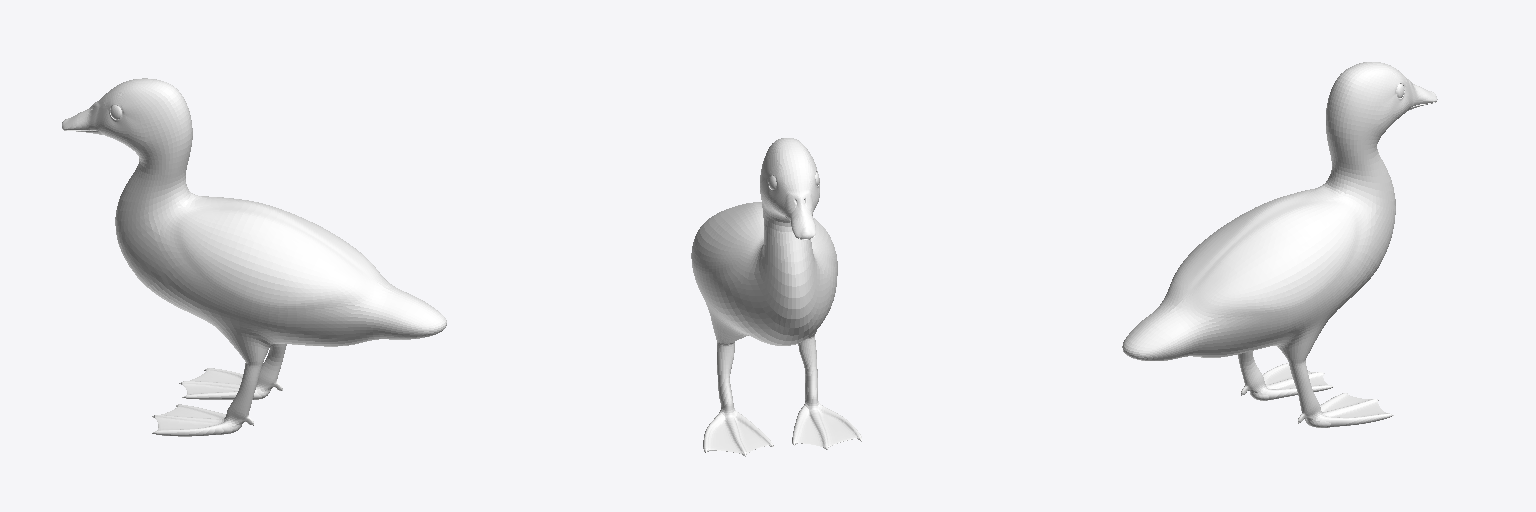
File: Ratusca6.obj
The picture shows the model from 3 angles: view 1: azimuth 30°, elevation 25°; view 2: azimuth 150°, elevation 25°; view 3: azimuth 270°, elevation 25°; orthographic projection.
Visible parts, largest first — view 1: 12250_Bird_v1_L3.005; view 2: 12250_Bird_v1_L3.005; view 3: 12250_Bird_v1_L3.005.
Boxes of the visible parts, x1,y1,x2,y2 form: 12250_Bird_v1_L3.005: [62, 78, 446, 436]; 12250_Bird_v1_L3.005: [691, 138, 861, 456]; 12250_Bird_v1_L3.005: [1122, 62, 1437, 427].
Size of the model in its own units: 0.352 by 0.4476 by 0.4008.